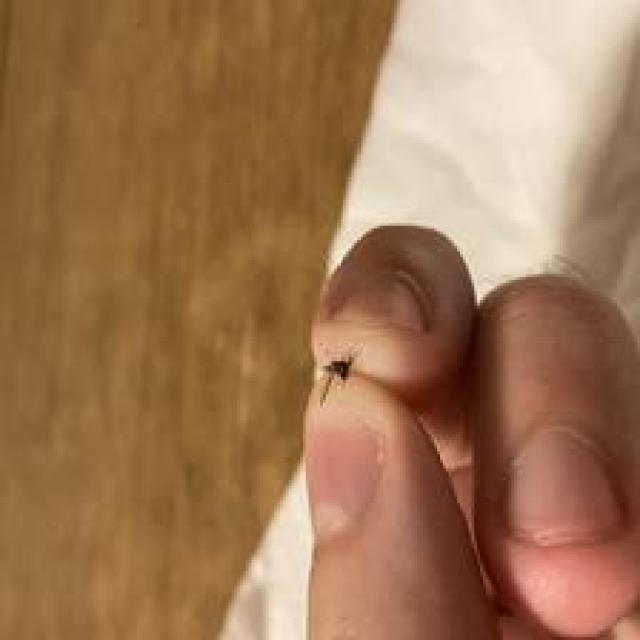Aedes albopictus: (316, 348, 358, 406)
